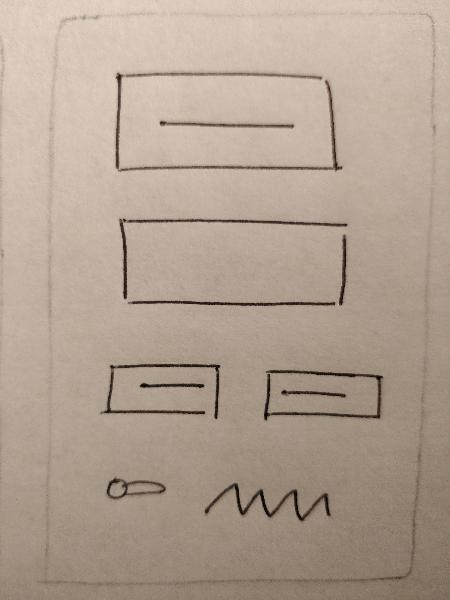button: (106, 58, 351, 187), (99, 356, 232, 426), (254, 363, 388, 430)
switch: (96, 466, 176, 510)
text: (198, 475, 340, 536)
text_input: (107, 211, 358, 315)
